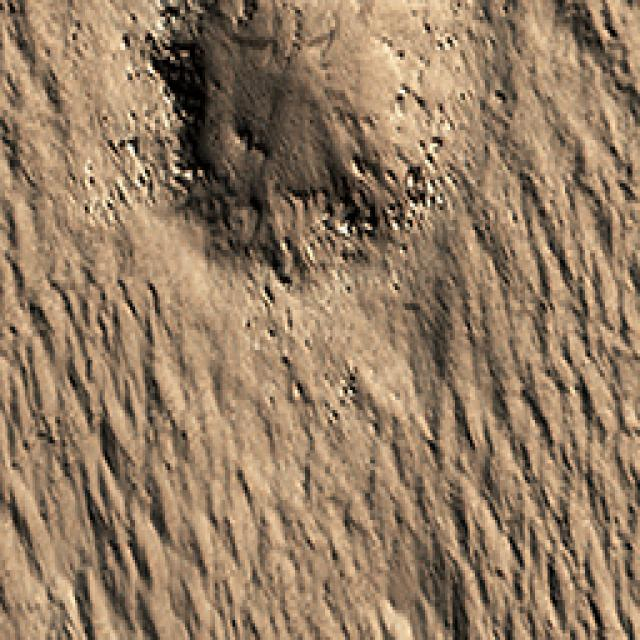Crater: (100, 0, 478, 310)
